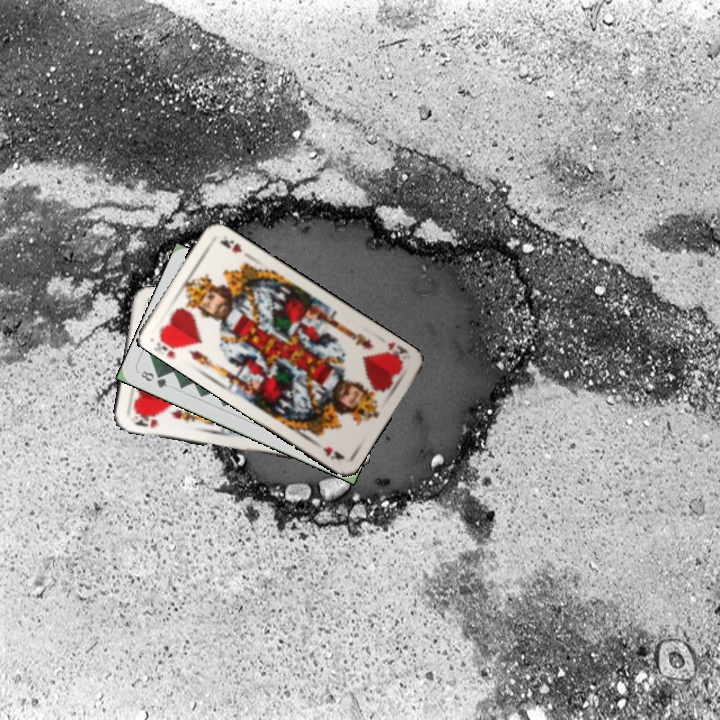G8: (137, 367, 170, 391)
HK: (379, 338, 410, 367), (151, 330, 186, 354), (127, 409, 161, 430)
